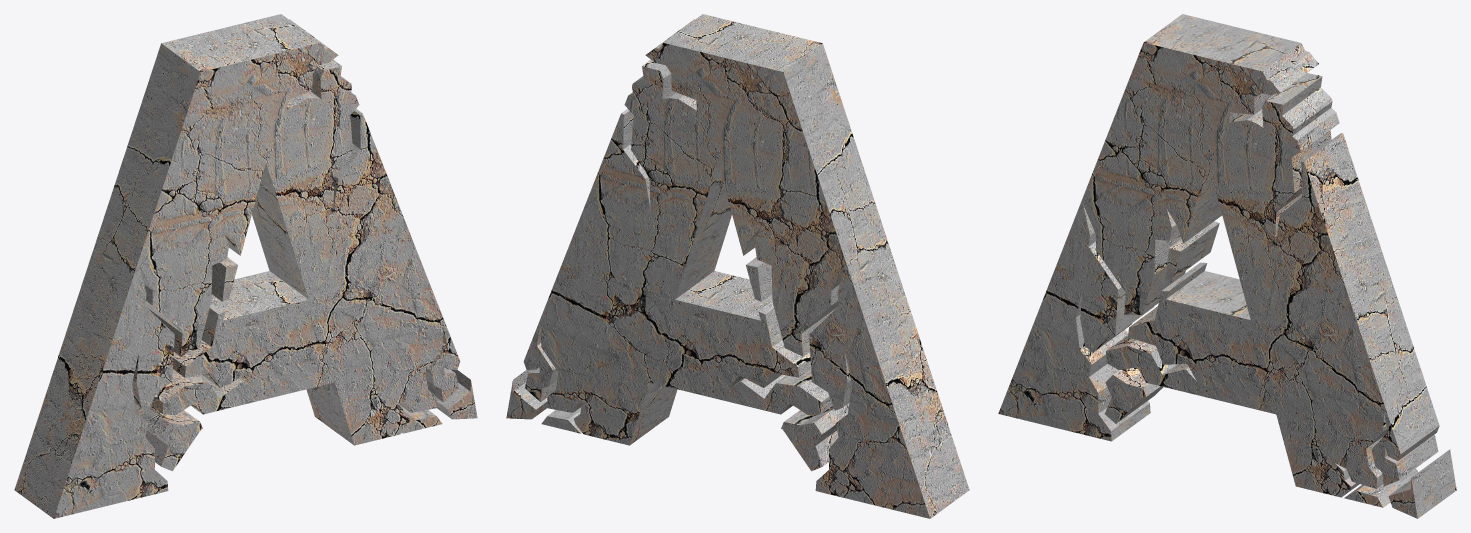
The picture shows the model from 3 angles, left to right: view 1: azimuth 30°, elevation 25°; view 2: azimuth 150°, elevation 25°; view 3: azimuth 330°, elevation 25°; orthographic projection.
Visible parts, largest first — view 1: A; view 2: A; view 3: A.
Boxes of the visible parts, bbox=[...] form: A: bbox=[14, 14, 477, 518]; A: bbox=[506, 14, 969, 518]; A: bbox=[998, 14, 1456, 518].
Bounding box in the file's own units: 93.2 × 86.94 × 15.
Materials: 1 (1 with a texture image).
